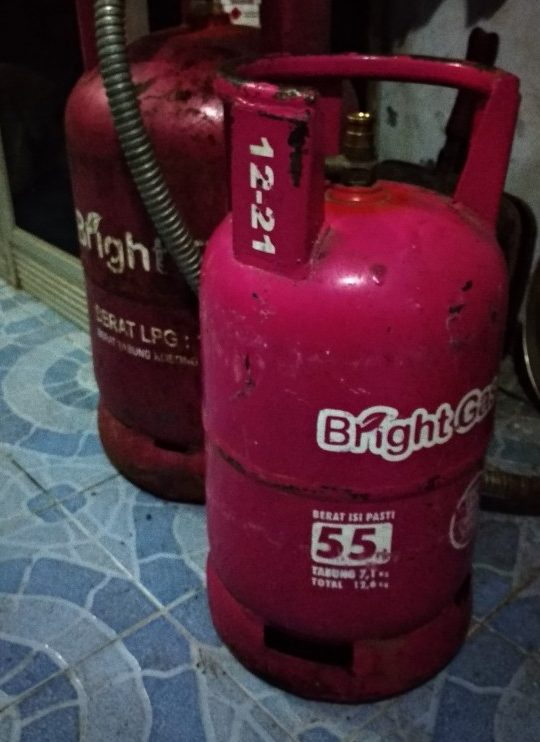bright_gas: (202, 51, 521, 704), (62, 1, 275, 504)
